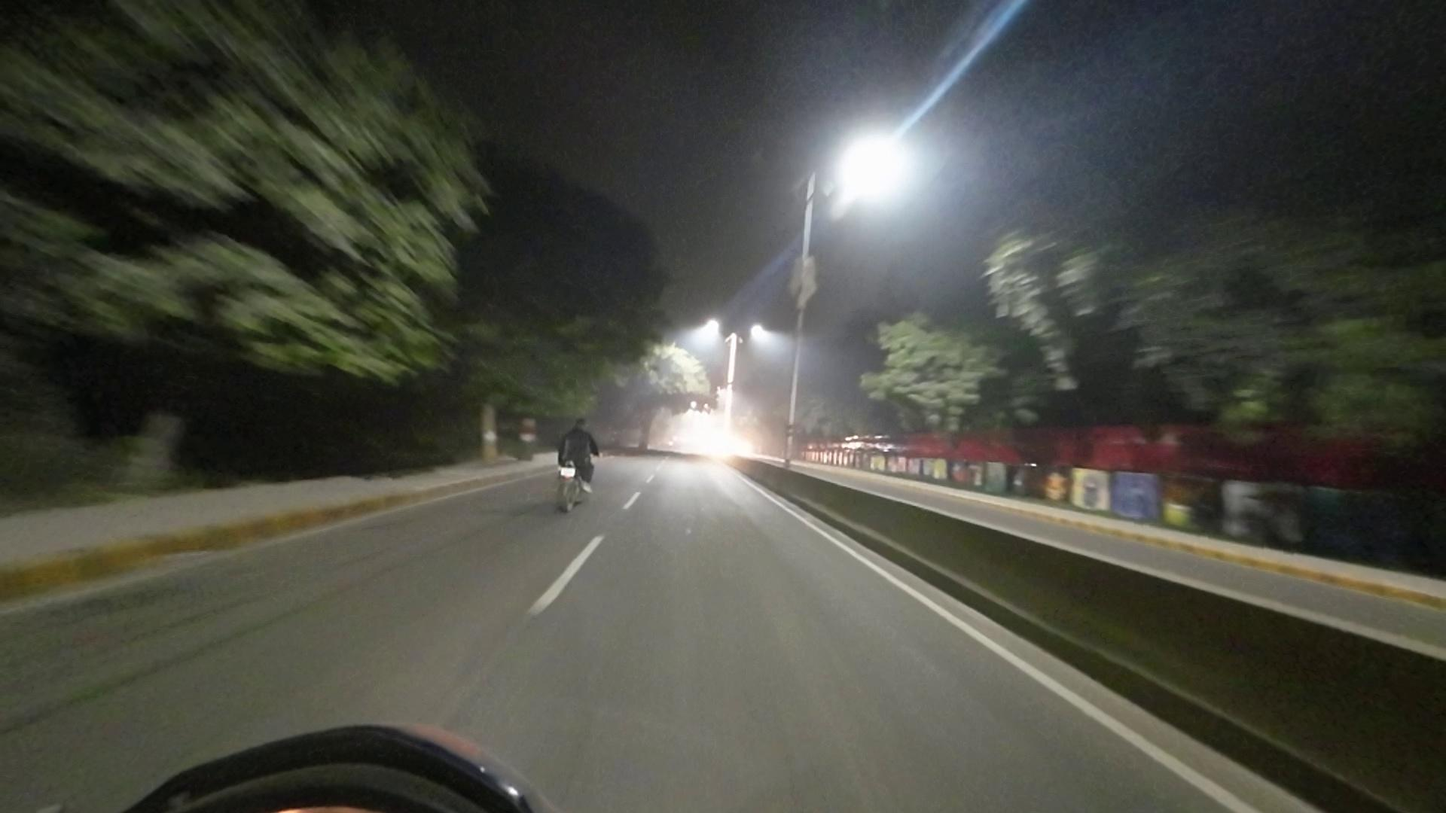streetlight: (736, 136, 794, 179)
